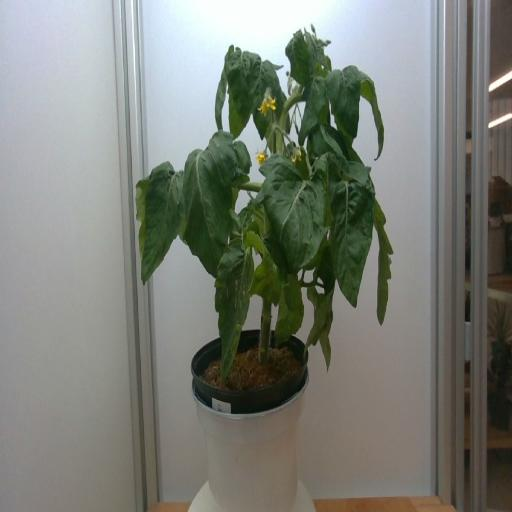Tomato-Leaves-Cupboard-: (179, 139, 231, 283), (264, 162, 328, 274), (209, 247, 255, 385), (326, 180, 372, 311), (139, 168, 188, 287), (373, 191, 397, 332), (243, 224, 279, 307), (326, 66, 362, 140), (360, 70, 386, 168), (223, 41, 253, 124), (272, 276, 303, 354), (250, 54, 278, 138), (297, 78, 329, 147), (308, 286, 333, 372), (305, 280, 331, 358), (311, 122, 349, 170), (286, 38, 312, 86), (258, 152, 298, 182), (228, 86, 250, 136), (135, 172, 148, 250), (214, 65, 229, 130), (231, 143, 251, 173), (314, 45, 332, 73), (236, 207, 248, 226)
